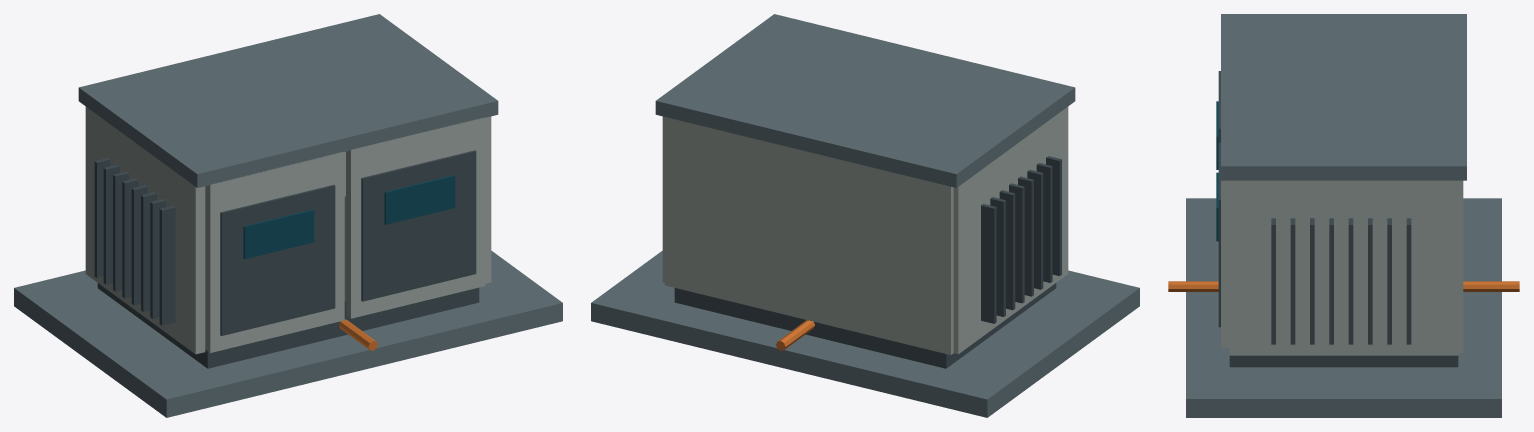
File: solar_power_station_d0.glb
The picture shows the model from 3 angles, left to right: view 1: azimuth 30°, elevation 25°; view 2: azimuth 150°, elevation 25°; view 3: azimuth 270°, elevation 25°; orthographic projection. The views are drawn at different scales.
Parts seen in each view (by area): view 1: SOLAR_GAME_MESH; view 2: SOLAR_GAME_MESH; view 3: SOLAR_GAME_MESH.
Part boxes in pixels (left/top/right/bottom): SOLAR_GAME_MESH: left=14, top=14, right=562, bottom=417; SOLAR_GAME_MESH: left=591, top=14, right=1139, bottom=417; SOLAR_GAME_MESH: left=1168, top=14, right=1519, bottom=417.
Size of the model in its own units: 5.4 by 2.86 by 4.
